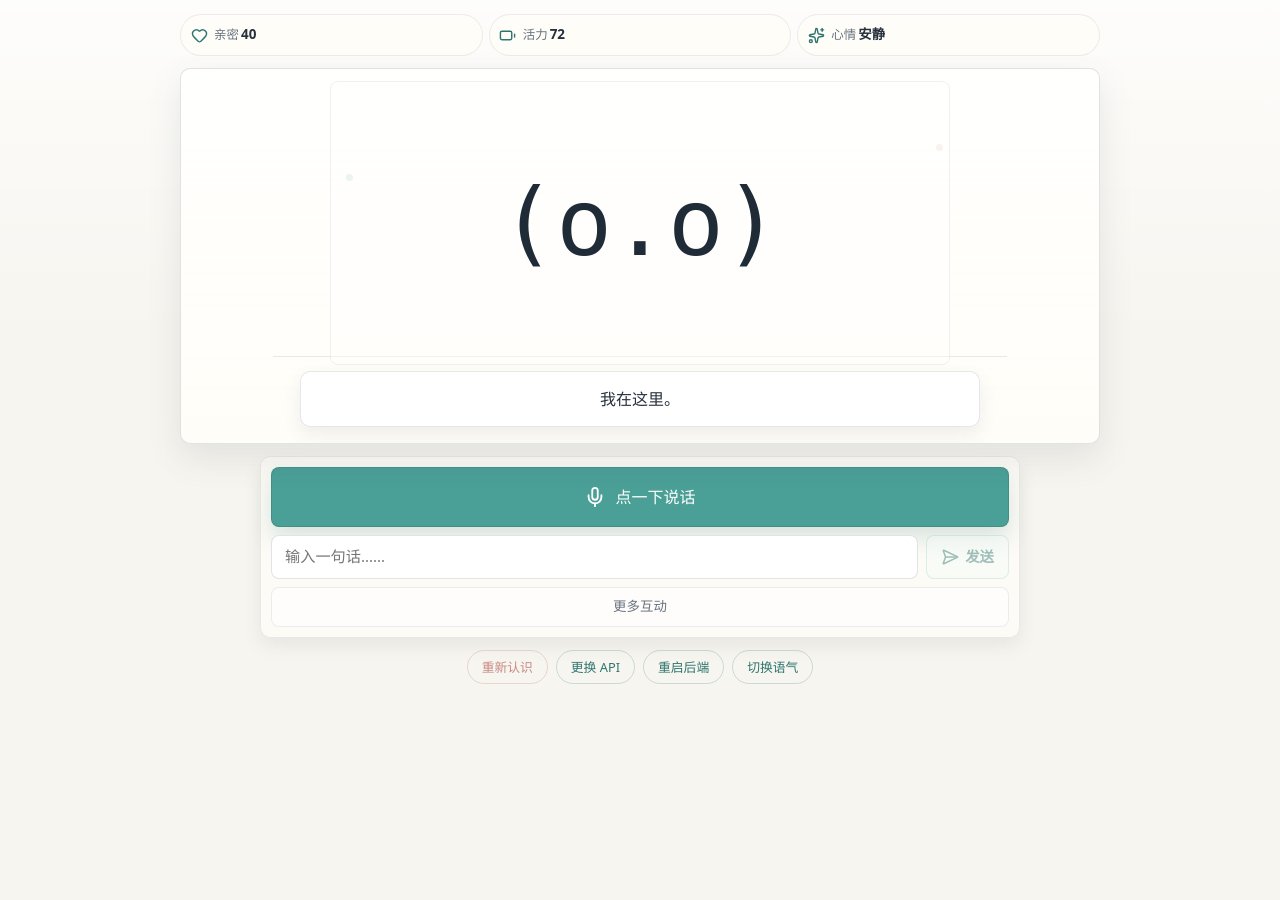
it: text chat › typed text sends POST and applies response
In the field with placeholder "输入一句话……": coordinates (595, 557) [271,535,918,579], type "帮我写两数之和"
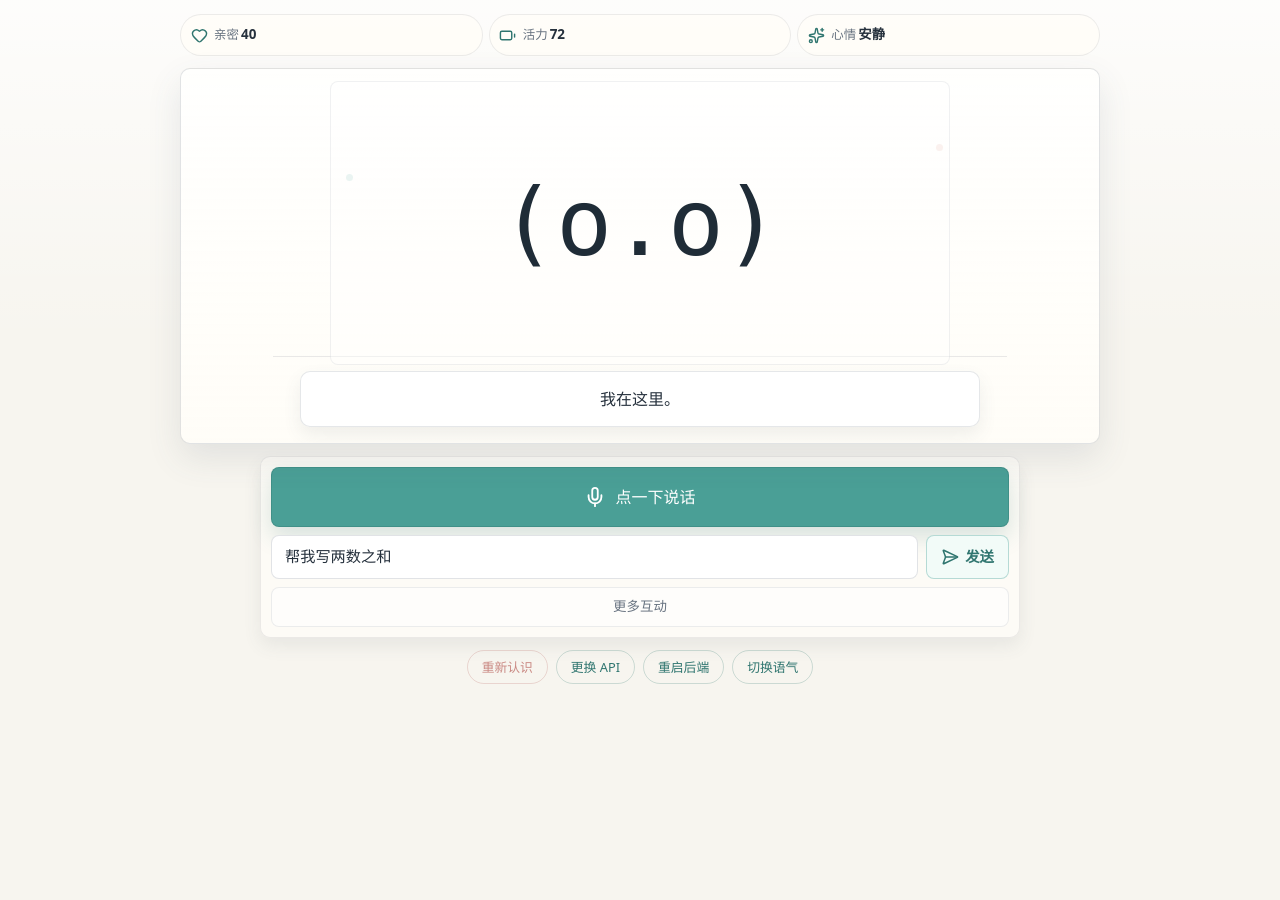
Click the button "发送": coordinates (968, 557) [926,535,1009,579]
Wait 2000 ms
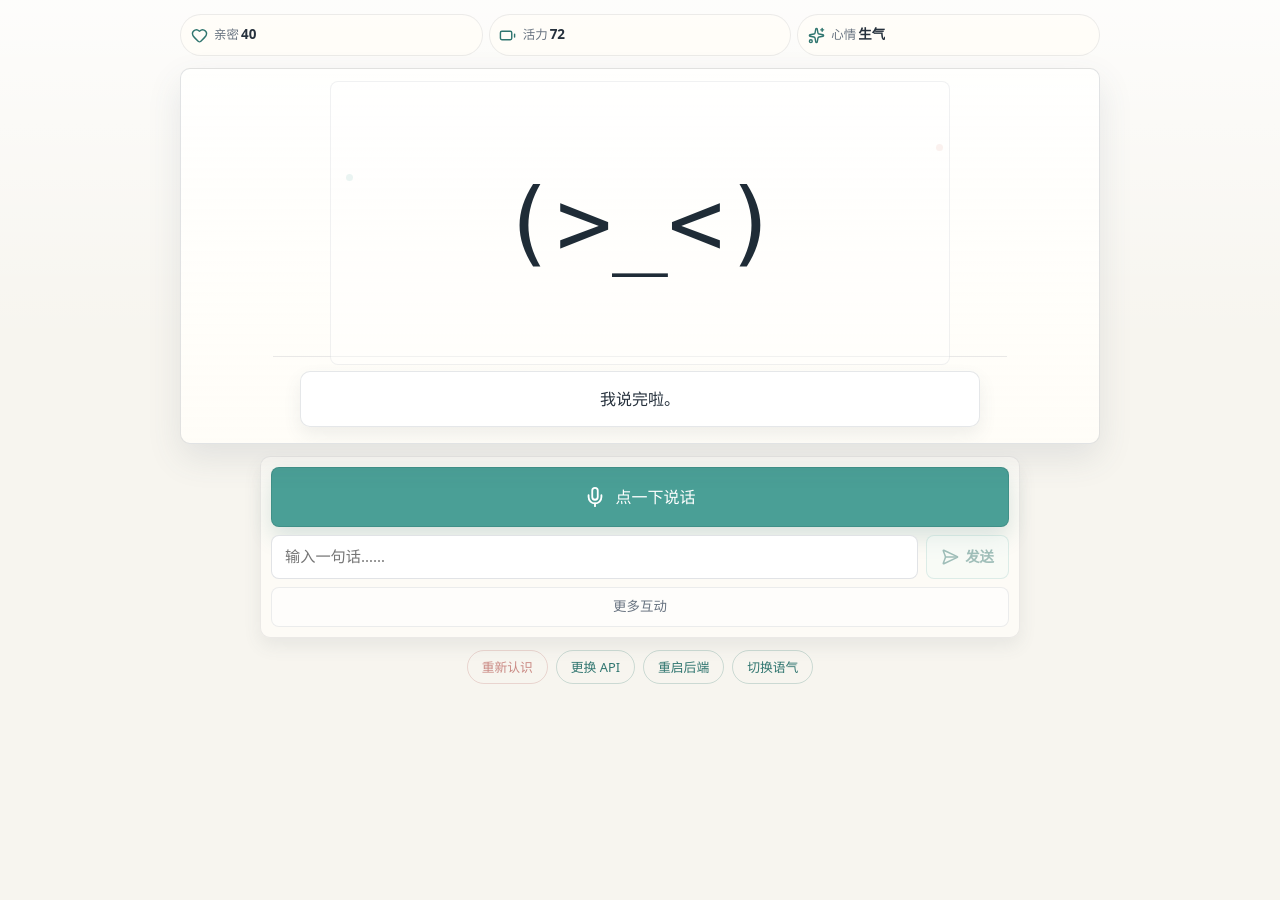
expect the text "我说完啦。" is shown: met, box [300,371,980,427]
expect the text named "豆豆表情" reads "(>_<)": met, box [500,169,780,277]
